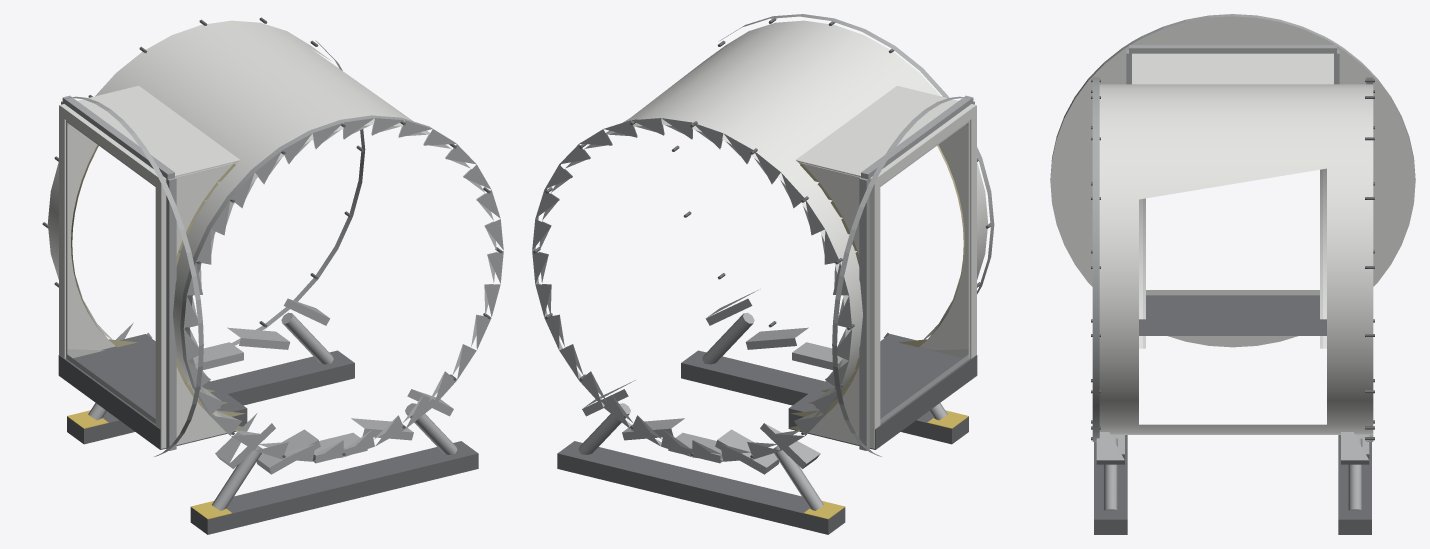
Rendered from habSegJL_steel.glb.
The picture shows the model from 3 angles, left to right: view 1: azimuth 30°, elevation 25°; view 2: azimuth 150°, elevation 25°; view 3: azimuth 270°, elevation 25°; orthographic projection.
Parts seen in each view (by area): view 1: habSegJL_steel; view 2: habSegJL_steel; view 3: habSegJL_steel.
Part boxes in pixels (box(x1,y1,x2,y2)): habSegJL_steel: box(42, 17, 503, 534); habSegJL_steel: box(532, 14, 994, 534); habSegJL_steel: box(1050, 14, 1415, 534).
Bounding box in the file's own units: 2.65 × 2.95 × 2.6.
